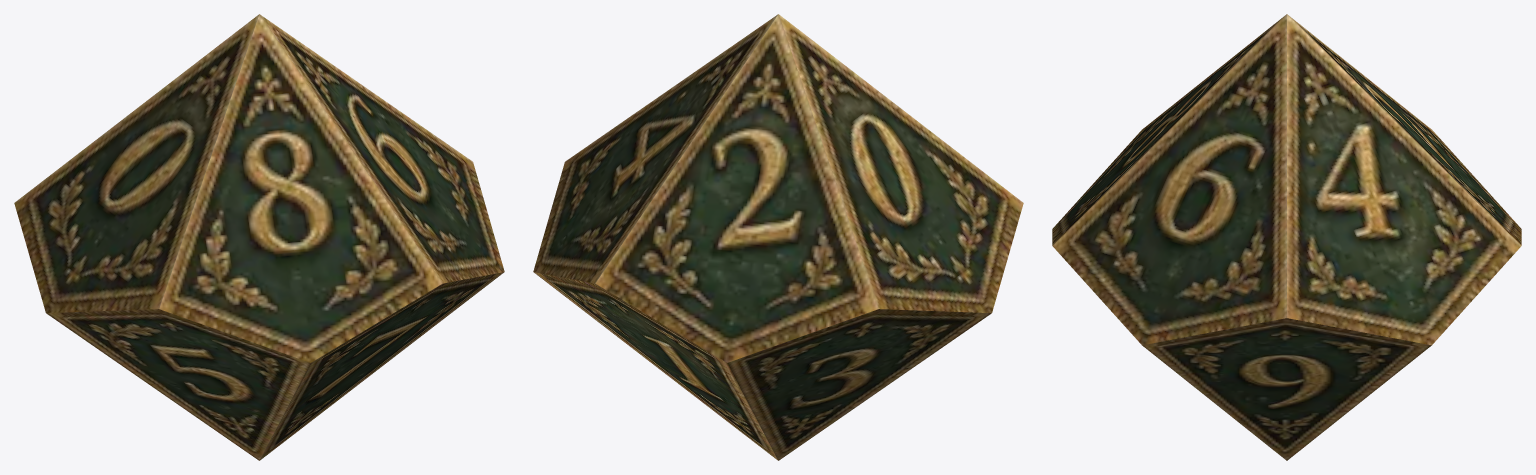
3 views of the same model, side by side, from view 1: azimuth 30°, elevation 25°; view 2: azimuth 150°, elevation 25°; view 3: azimuth 270°, elevation 25° (orthographic).
Visible parts, largest first — view 1: Sunspire_D10; view 2: Sunspire_D10; view 3: Sunspire_D10.
Part boxes in pixels (x1=…): Sunspire_D10: x1=14, y1=14, x2=504, y2=460; Sunspire_D10: x1=533, y1=14, x2=1023, y2=460; Sunspire_D10: x1=1052, y1=14, x2=1521, y2=460.
Bounding box in the file's own units: 1.44 × 1.44 × 1.37.
Materials: 1 (1 with a texture image).
